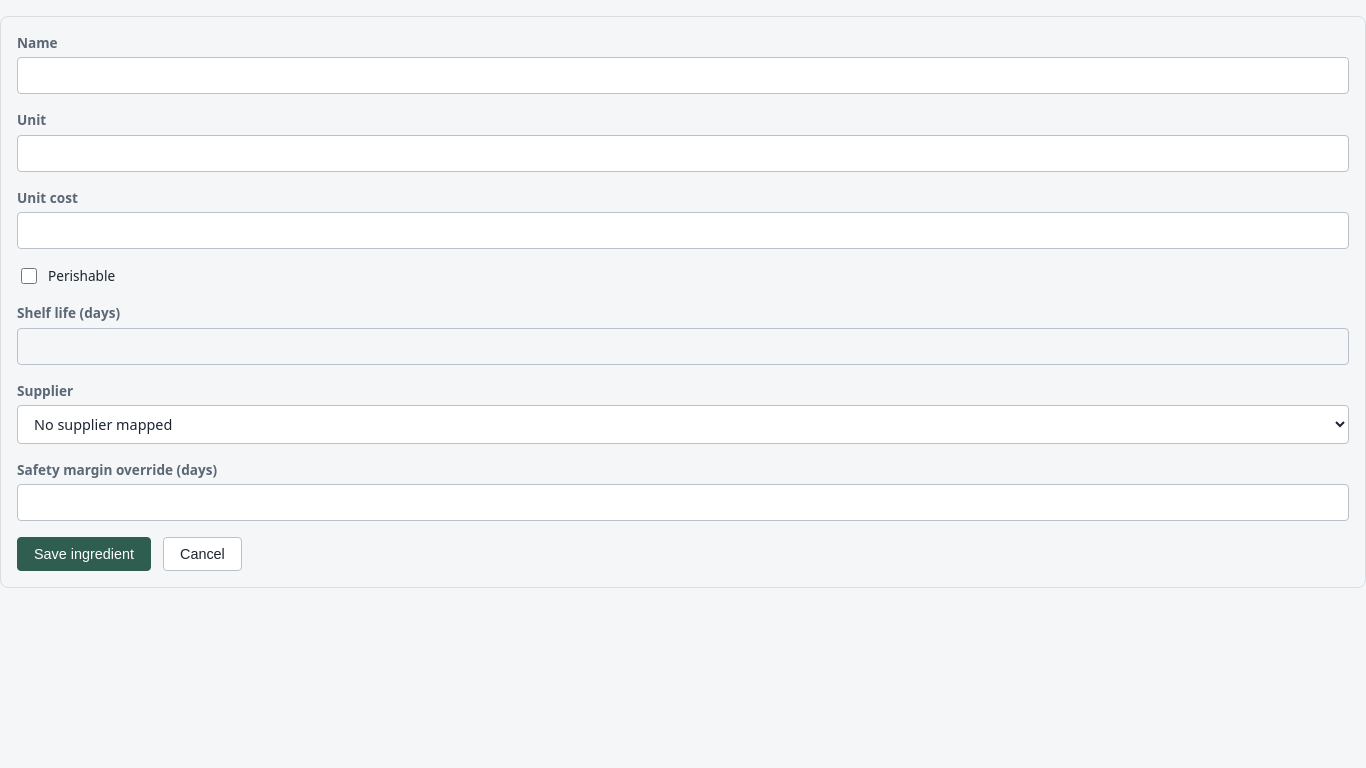
Test case: IngredientForm › blocks submit when perishable is checked but shelf life is left blank
The width and height of the screenshot is (1366, 768).
Type "Roma Tomatoes" into the field labelled "Name" at (683, 76), box [17,57,1349,94]
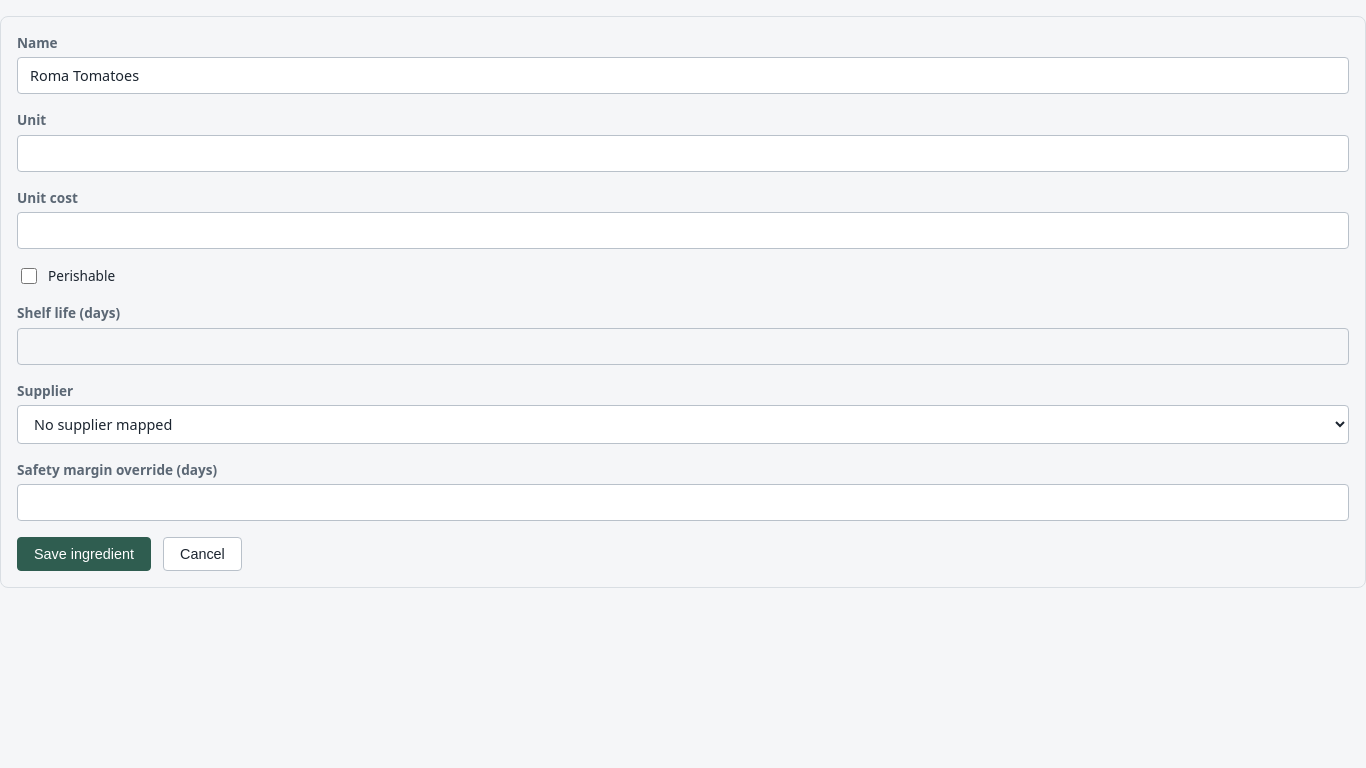
Type "kg" into the field labelled "Unit" at (683, 153), box [17,135,1349,172]
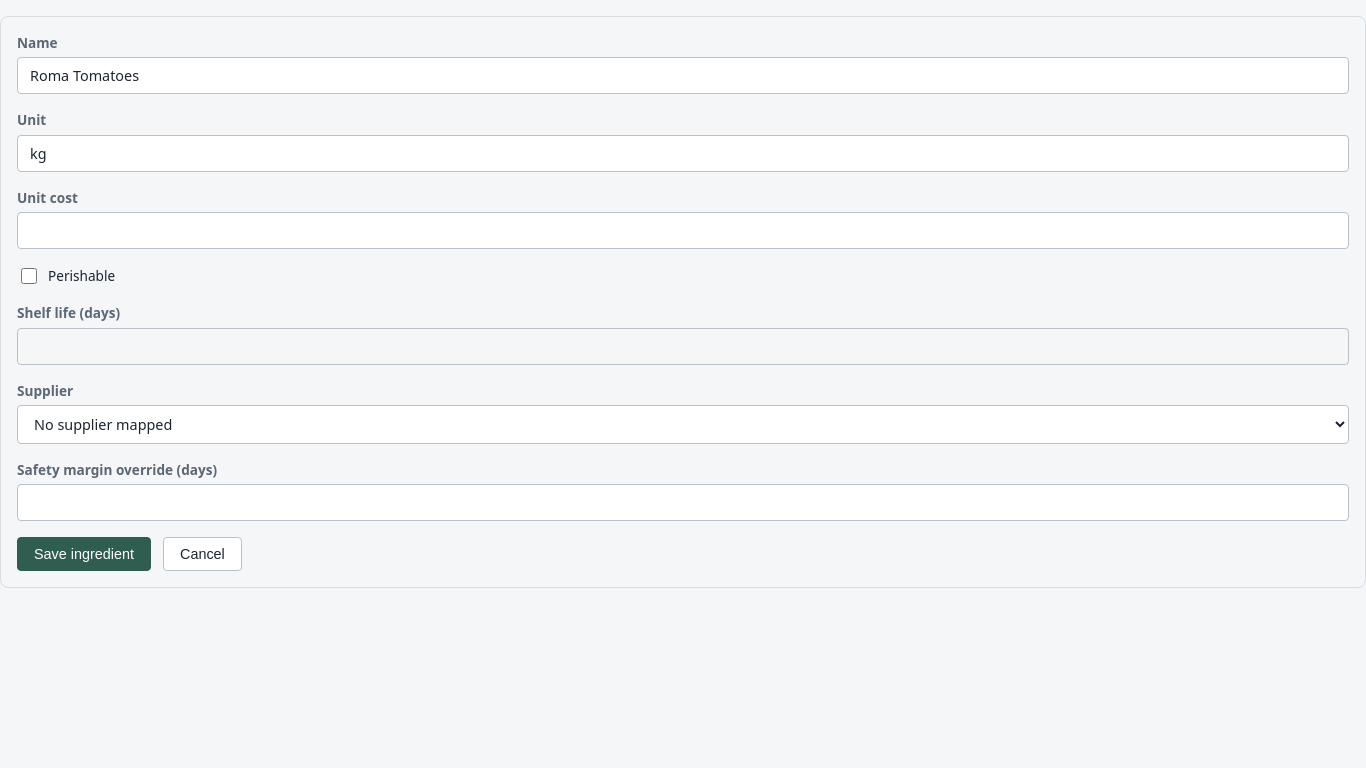
Type "2.5" into the number field labelled "Unit cost" at (683, 231), box [17,212,1349,249]
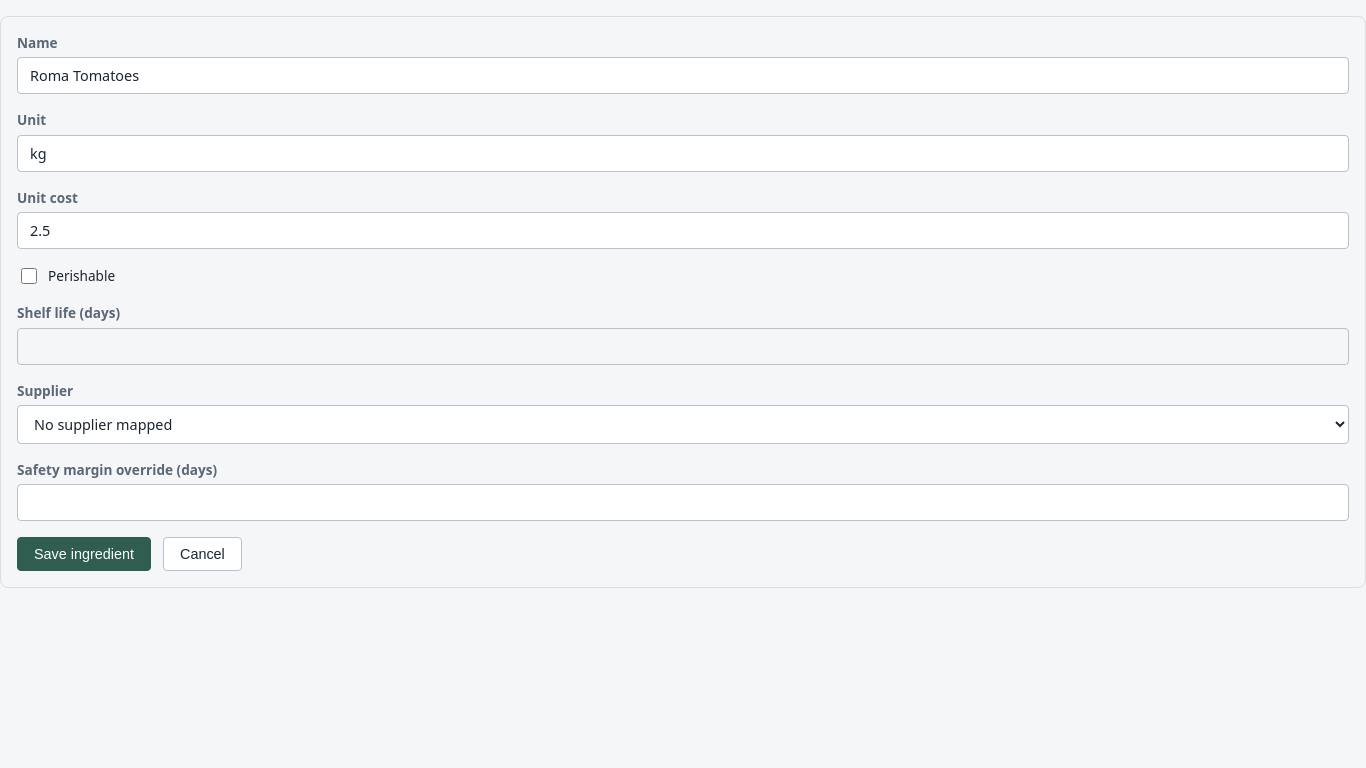
Click the checkbox labelled "Perishable" at (29, 276), box [21,268,37,284]
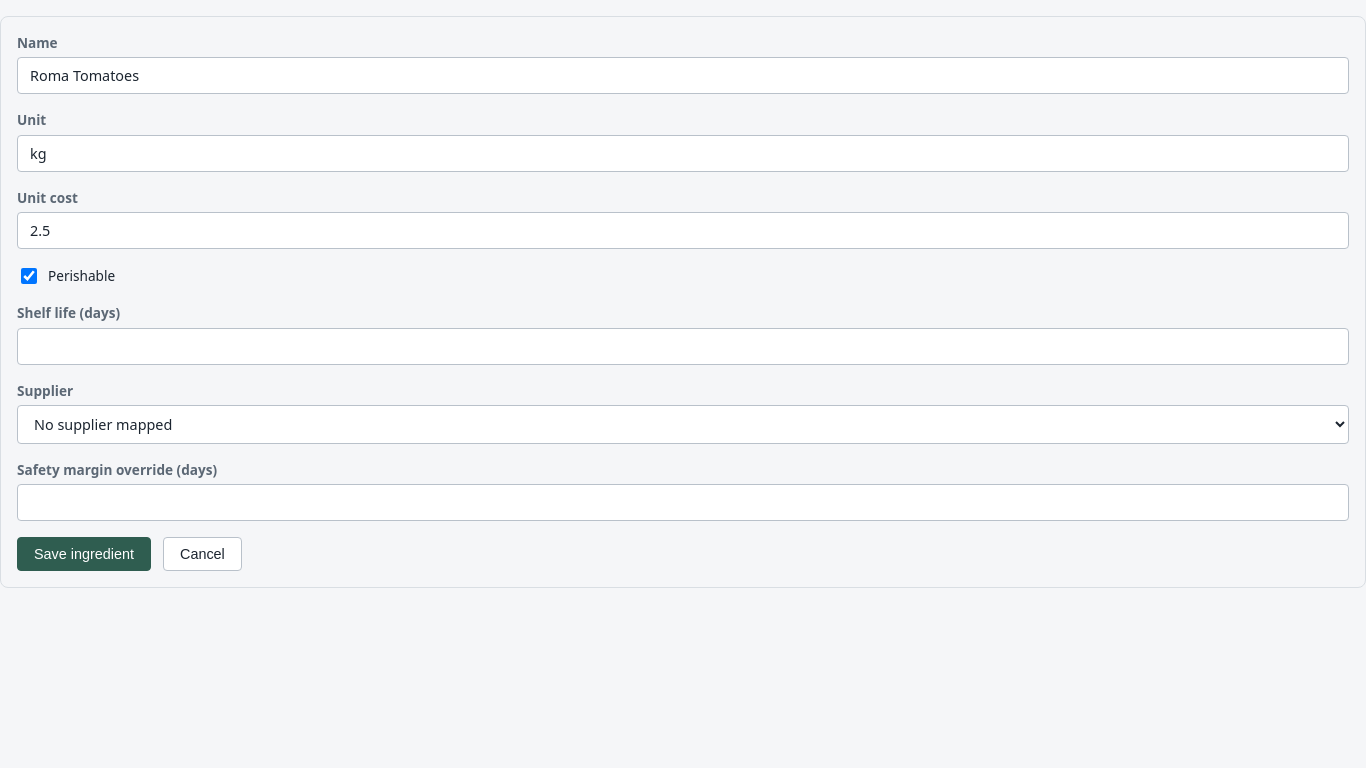
Click the button "Save ingredient" at (84, 554), box [17,537,151,571]
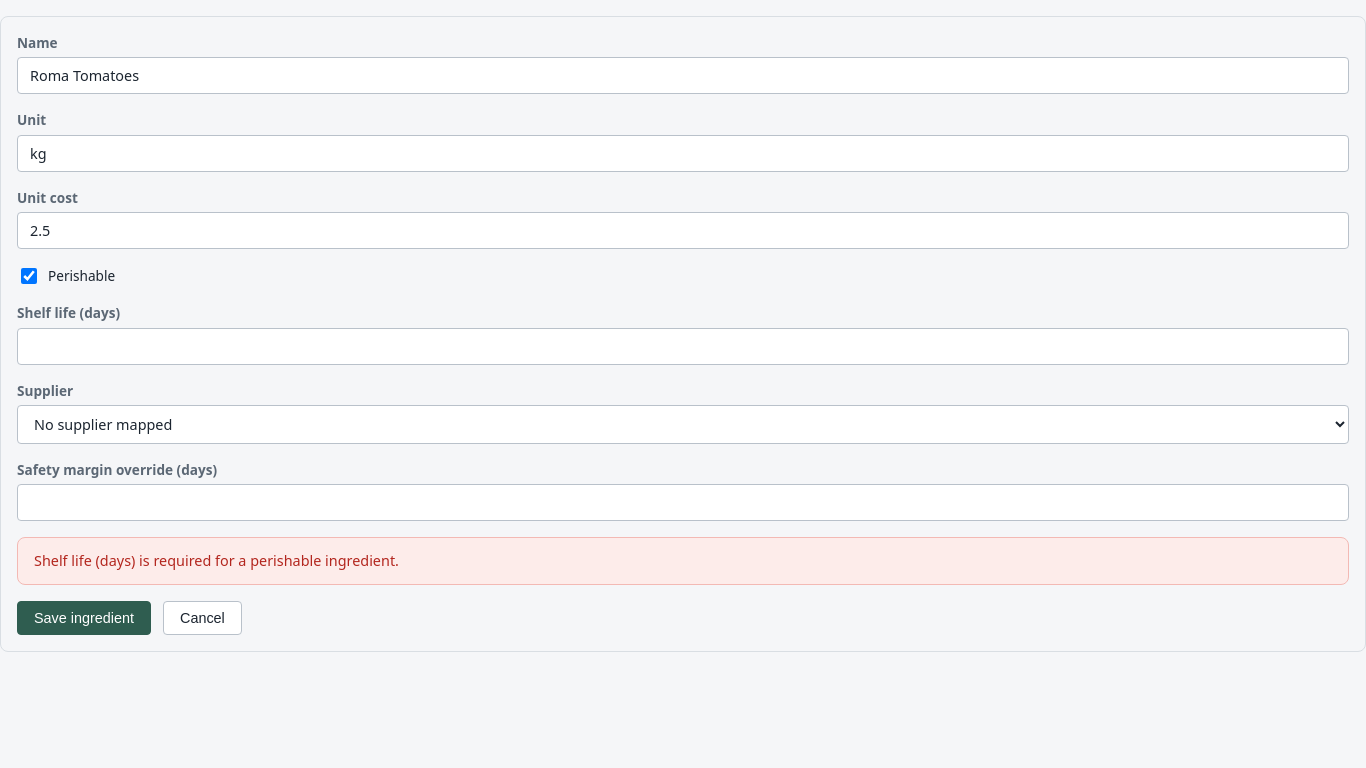
expect the message reads "Shelf life (days) is required for a perishable ingredient.": met, box [34,551,399,570]
